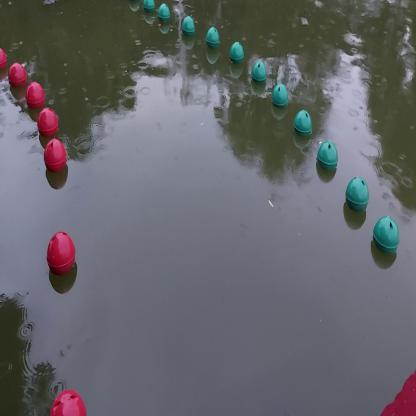green_buoy: (372, 218, 400, 262), (345, 173, 369, 217), (316, 138, 338, 180), (292, 106, 312, 144), (206, 22, 220, 53), (273, 84, 288, 112), (252, 61, 266, 87), (158, 3, 171, 30), (183, 15, 196, 42), (231, 43, 244, 66), (143, 0, 156, 13)
red_buoy: (47, 231, 75, 284), (48, 384, 88, 416), (44, 136, 68, 178), (38, 106, 59, 142), (26, 81, 46, 115), (10, 61, 28, 95), (0, 44, 9, 74)
